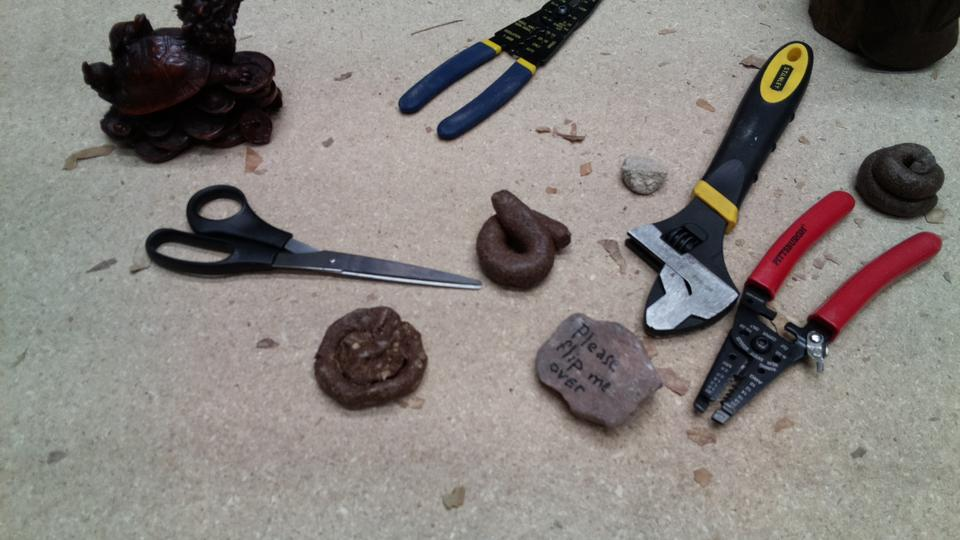poop: (311, 302, 431, 412), (470, 186, 574, 297), (853, 141, 947, 223)
